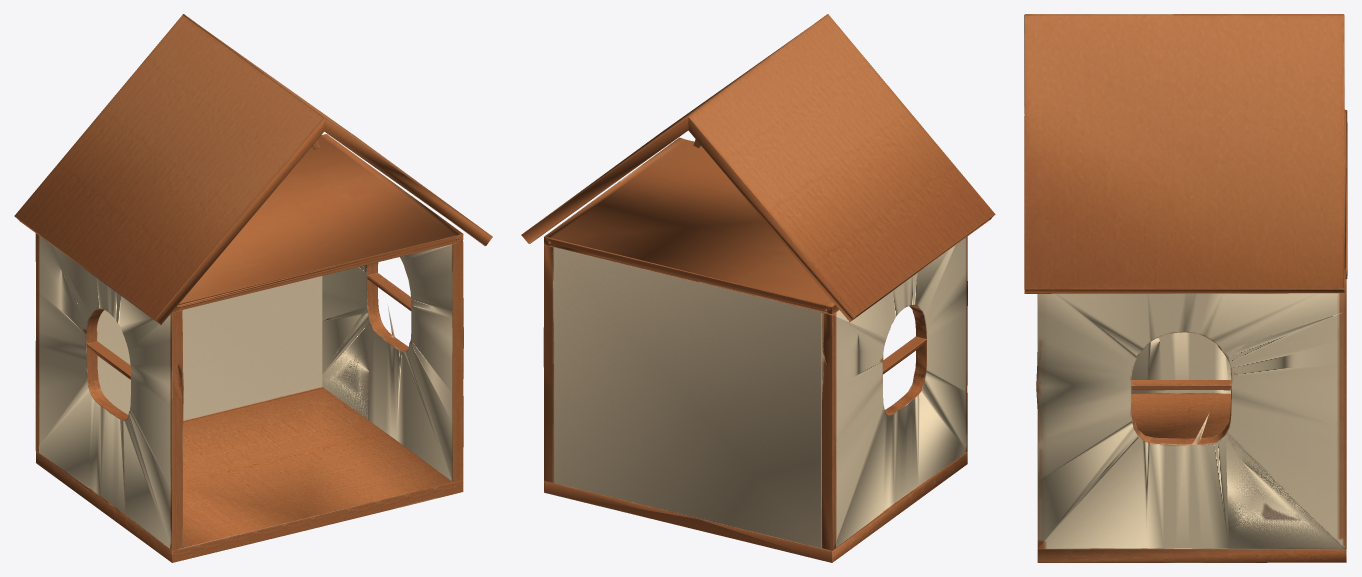
Rendered from meshy_house_shell.glb.
3 renders of one model, left to right at view 1: azimuth 30°, elevation 25°; view 2: azimuth 150°, elevation 25°; view 3: azimuth 270°, elevation 25°, orthographic. The views are drawn at different scales.
Size of the model in its own units: 0.814 by 0.9541 by 0.5962.
Materials: 1 (1 with a texture image).
